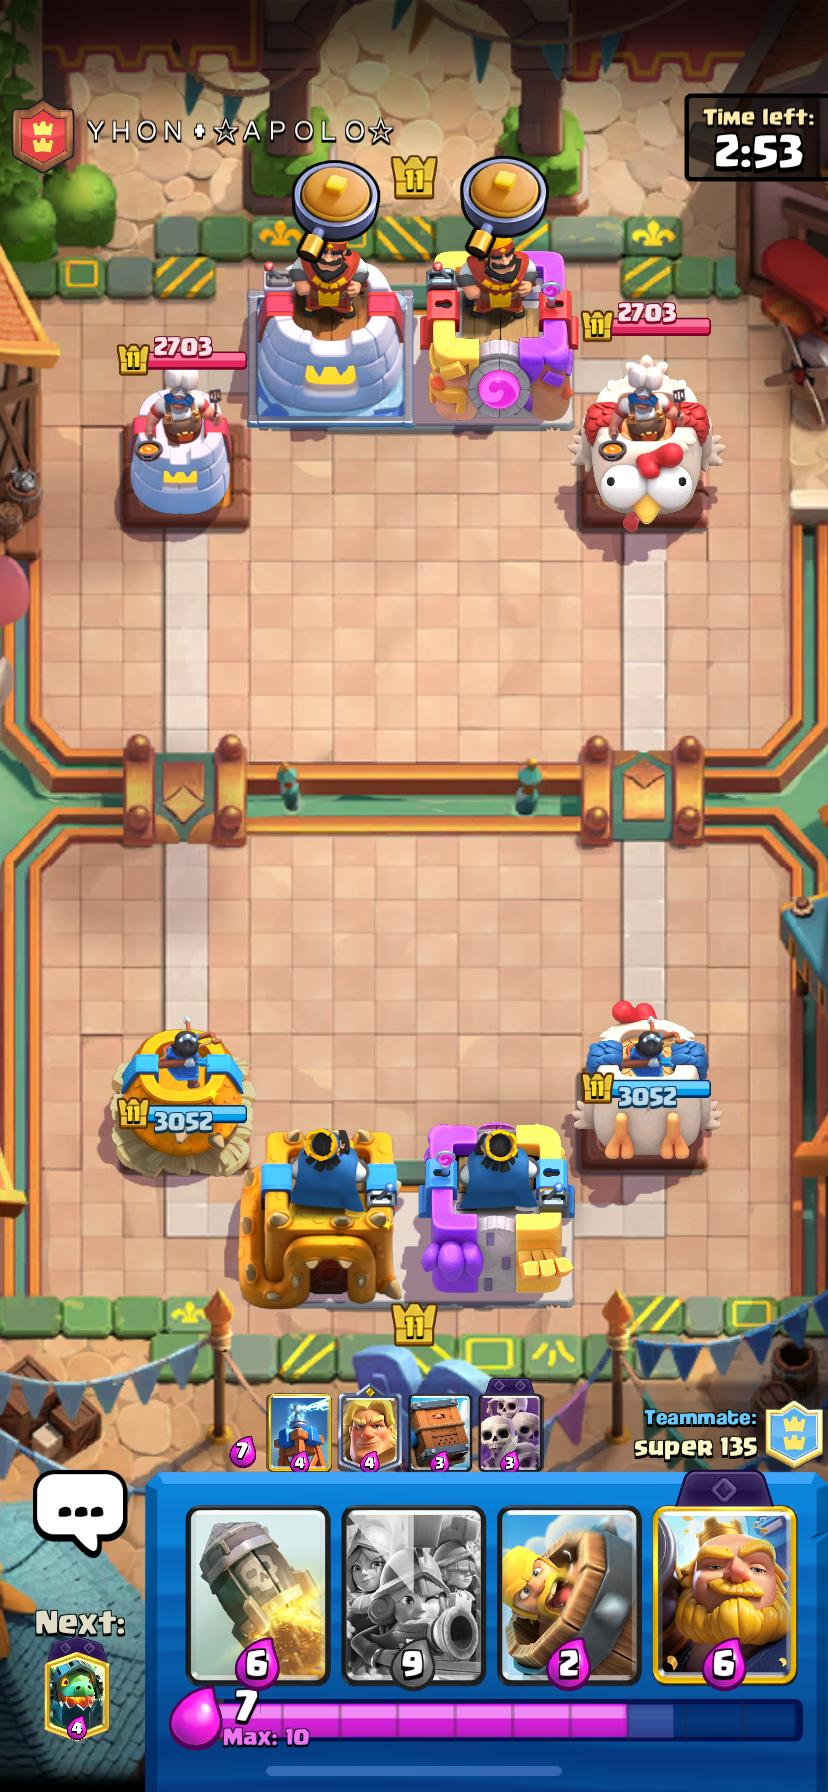EKingTower: (249, 239, 411, 423), (421, 239, 578, 423)
EnemyPanTower: (574, 357, 720, 530), (122, 371, 247, 526)
OwnKingTower: (240, 1129, 403, 1306), (419, 1123, 573, 1299)
OwnPrincessTower: (576, 1001, 711, 1166), (111, 1023, 253, 1175)
